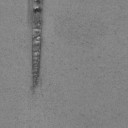slag inclusion: (28, 0, 44, 94)
